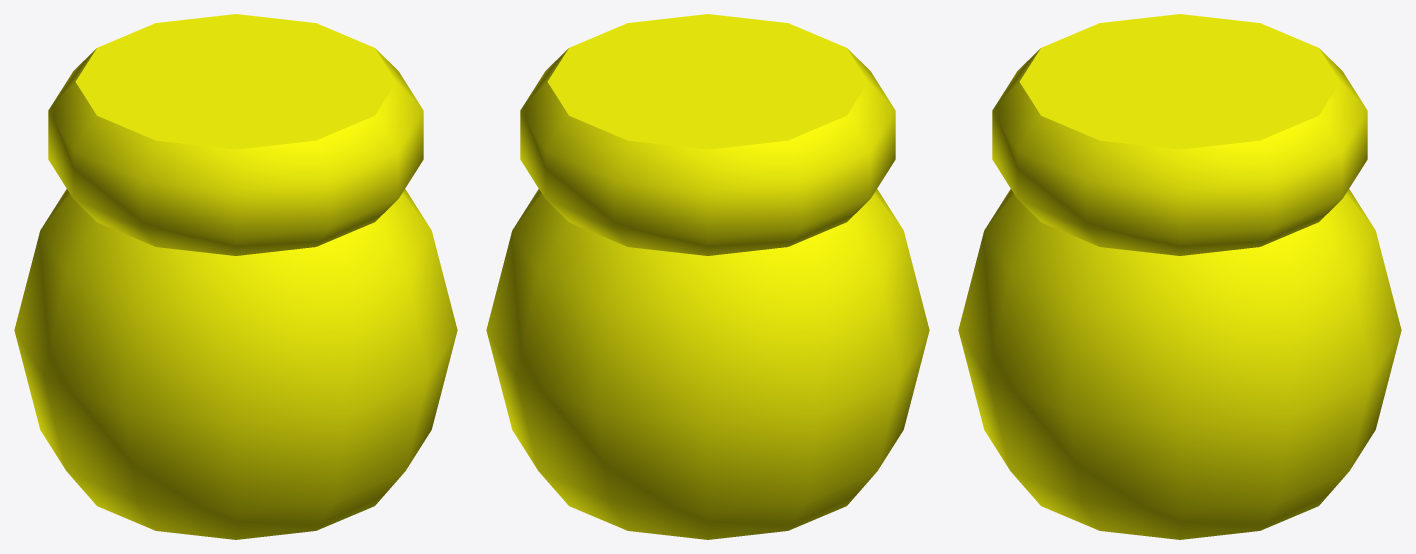
File: jar_D_small.gltf
The picture shows the model from 3 angles, left to right: view 1: azimuth 30°, elevation 25°; view 2: azimuth 150°, elevation 25°; view 3: azimuth 270°, elevation 25°; orthographic projection.
Parts seen in each view (by area): view 1: jar_D_small; view 2: jar_D_small; view 3: jar_D_small.
Boxes of the visible parts, left/top/right/bottom form: jar_D_small: left=14, top=14, right=457, bottom=539; jar_D_small: left=486, top=14, right=929, bottom=539; jar_D_small: left=958, top=14, right=1401, bottom=539.
Bounding box in the file's own units: 0.566 × 0.55 × 0.566.
1 material, 1 textured.
